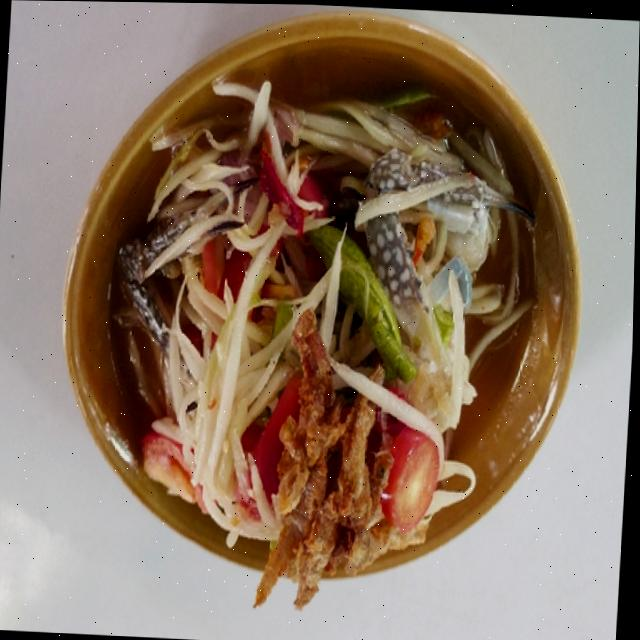蔬菜料理: (64, 19, 592, 626)
